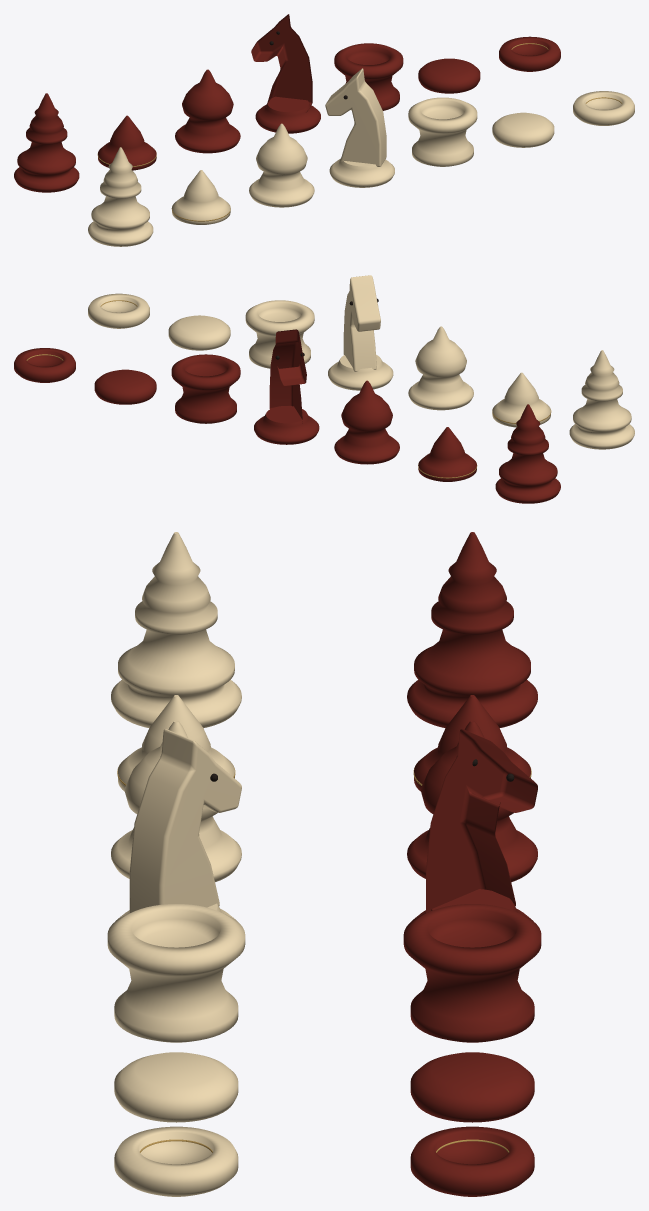
Rendered from collection.glb.
3 renders of one model, top to bottom at view 1: azimuth 30°, elevation 25°; view 2: azimuth 150°, elevation 25°; view 3: azimuth 270°, elevation 25°, orthographic. The views are drawn at different scales.
Parts seen in each view (by area): view 1: khun.001, khun, ruea, khon, khon.001, Ma carved horse, Ma carved horse.001, ruea.001, met, Ma turned base.001, bia.001, bia (+4 smaller); view 2: khun, khun.001, ruea.001, khon.001, khon, Ma carved horse, ruea, Ma carved horse.001, met.001, Ma turned base.001, bia, bia.001 (+4 smaller); view 3: ruea.001, ruea, khun.001, khun, Ma carved horse, Ma carved horse.001, bia.001, bia, promoted_bia.001, promoted_bia, khon, khon.001 (+3 smaller).
Part boxes in pixels (left/top/right/bottom): khun.001: left=14, top=93, right=79, bottom=192; khun: left=88, top=147, right=153, bottom=246; ruea: left=408, top=97, right=477, bottom=166; khon: left=249, top=123, right=314, bottom=207; khon.001: left=175, top=69, right=240, bottom=153; Ma carved horse: left=325, top=68, right=386, bottom=166; Ma carved horse.001: left=251, top=14, right=312, bottom=112; ruea.001: left=334, top=43, right=403, bottom=110; met: left=172, top=170, right=230, bottom=224; Ma turned base.001: left=255, top=96, right=320, bottom=133; bia.001: left=418, top=58, right=480, bottom=93; bia: left=492, top=112, right=554, bottom=147; khun: left=569, top=350, right=634, bottom=449; khun.001: left=495, top=404, right=560, bottom=503; ruea.001: left=171, top=354, right=240, bottom=423; khon.001: left=334, top=380, right=399, bottom=464; khon: left=408, top=326, right=473, bottom=410; Ma carved horse: left=343, top=275, right=380, bottom=371; ruea: left=245, top=300, right=314, bottom=368; Ma carved horse.001: left=269, top=329, right=306, bottom=423; met.001: left=418, top=427, right=476, bottom=481; Ma turned base.001: left=254, top=406, right=319, bottom=444; bia: left=168, top=315, right=230, bottom=350; bia.001: left=94, top=369, right=156, bottom=404; ruea.001: left=403, top=904, right=541, bottom=1042; ruea: left=107, top=904, right=245, bottom=1042; khun.001: left=407, top=532, right=537, bottom=728; khun: left=111, top=532, right=241, bottom=728; Ma carved horse: left=129, top=729, right=241, bottom=912; Ma carved horse.001: left=426, top=729, right=537, bottom=913; bia.001: left=410, top=1052, right=534, bottom=1122; bia: left=114, top=1052, right=238, bottom=1122; promoted_bia.001: left=410, top=1126, right=534, bottom=1196; promoted_bia: left=114, top=1126, right=238, bottom=1196; khon: left=111, top=720, right=241, bottom=882; khon.001: left=407, top=720, right=537, bottom=882.
Bounding box in the file's own units: 0.361 × 0.0665 × 0.126.
